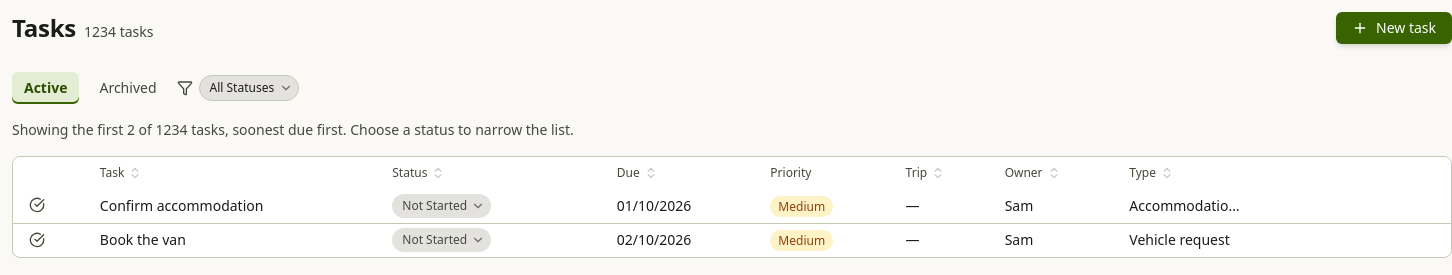
Test case: Tasks list past the server cap › names no action in the Archived view, which has no filter
Click the radio button labelled "Archived". click: (128, 88)
box: x1=88 y1=72 x2=169 y2=104
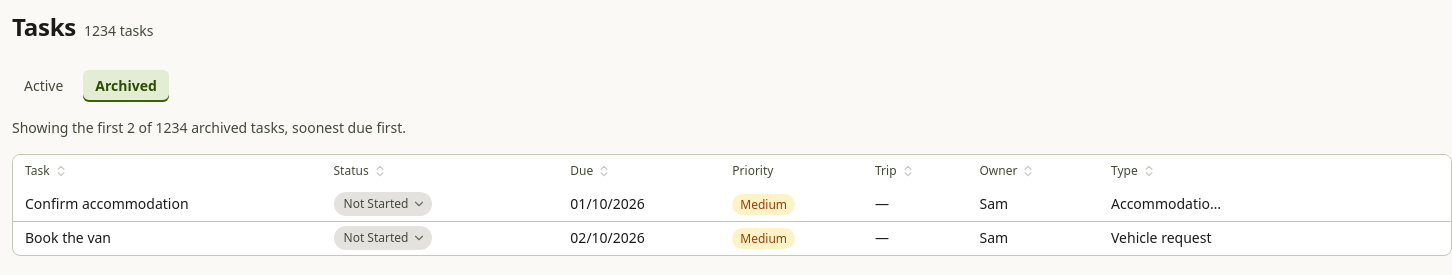
Check: the text "Showing the first 2 of 1234 archived tasks, soonest due first." is shown, box x1=12 y1=118 x2=406 y2=137
